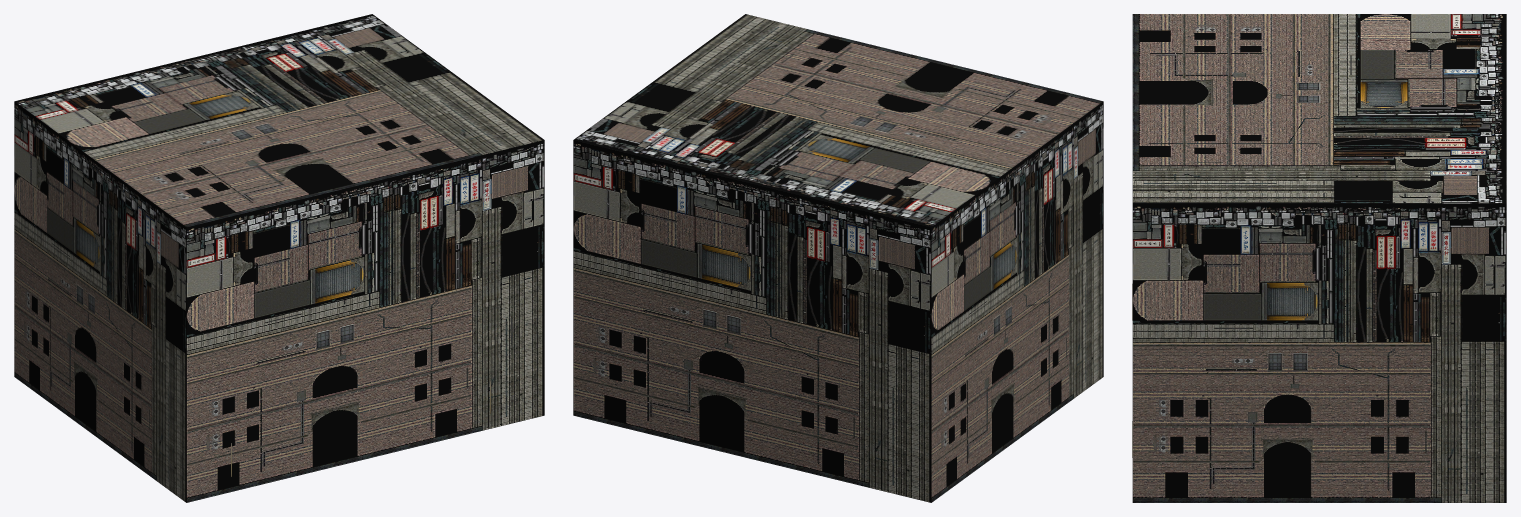
The model's file is Interiors_008.DAE.
3 views of the same model, side by side, from view 1: azimuth 30°, elevation 25°; view 2: azimuth 150°, elevation 25°; view 3: azimuth 270°, elevation 25° (orthographic). The views are drawn at different scales.
Parts seen in each view (by area): view 1: bounds; view 2: bounds; view 3: bounds.
Part boxes in pixels (<box>): bounds: <box>14,14,544,502</box>; bounds: <box>573,14,1103,502</box>; bounds: <box>1132,14,1506,502</box>.
Bounding box in the file's own units: 2529 × 2107 × 1859.
